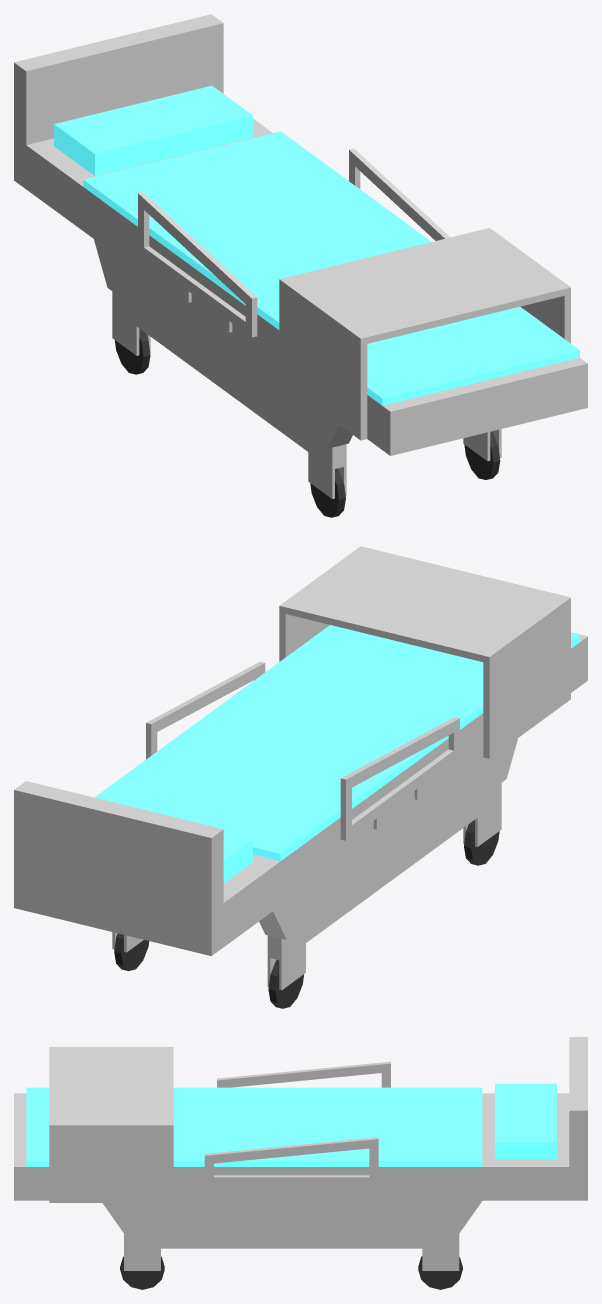
3 views of the same model, one above another, from view 1: azimuth 30°, elevation 25°; view 2: azimuth 150°, elevation 25°; view 3: azimuth 270°, elevation 25° (orthographic). The views are drawn at different scales.
Parts seen in each view (by area): view 1: Plane.017, Plane.022, Plane.024, Plane.025, Plane.018, Plane.019, Plane.023, Plane.021, Plane.020; view 2: Plane.017, Plane.024, Plane.022, Plane.019, Plane.023, Plane.021, Plane.025, Plane.020, Plane.018; view 3: Plane.017, Plane.022, Plane.019, Plane.024, Plane.025, Plane.021, Plane.023, Plane.018, Plane.020.
Boxes of the visible parts, x1,y1,x2,y2 form: Plane.017: (83, 131, 579, 405); Plane.022: (279, 228, 570, 440); Plane.024: (14, 14, 587, 455); Plane.025: (26, 118, 587, 433); Plane.018: (54, 85, 252, 175); Plane.019: (94, 239, 352, 448); Plane.023: (138, 148, 450, 337); Plane.021: (112, 291, 501, 498); Plane.020: (114, 328, 500, 517); Plane.017: (94, 625, 579, 861); Plane.024: (14, 659, 587, 955); Plane.022: (279, 546, 570, 758); Plane.019: (259, 738, 517, 939); Plane.023: (146, 661, 459, 840); Plane.021: (112, 783, 501, 990); Plane.025: (223, 632, 587, 924); Plane.020: (114, 820, 499, 1008); Plane.018: (223, 833, 252, 883); Plane.017: (26, 1087, 482, 1166); Plane.022: (49, 1047, 173, 1202); Plane.019: (102, 1200, 482, 1233); Plane.024: (14, 1037, 587, 1200); Plane.025: (14, 1093, 569, 1183); Plane.021: (124, 1233, 459, 1270); Plane.023: (204, 1061, 390, 1195); Plane.018: (495, 1083, 556, 1159); Plane.020: (120, 1256, 462, 1289).
Bounding box in the file's own units: 2.98 × 9.24 × 3.31.
